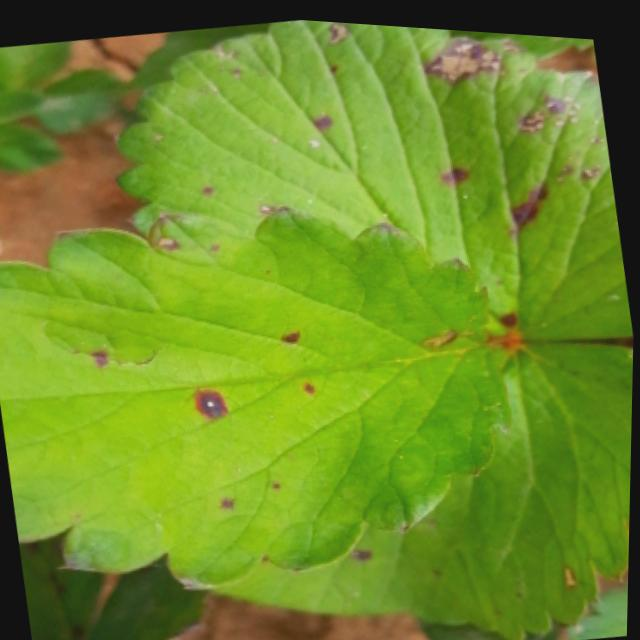Leaf Spot: (0, 197, 514, 587), (113, 15, 635, 336), (193, 331, 635, 639), (570, 572, 631, 633)
